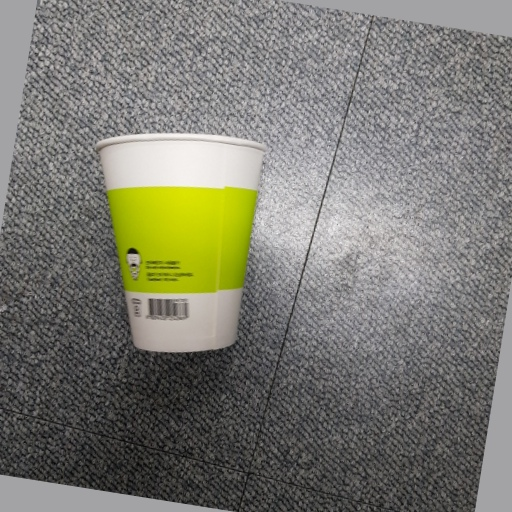Paper_1: (95, 132, 267, 358)
